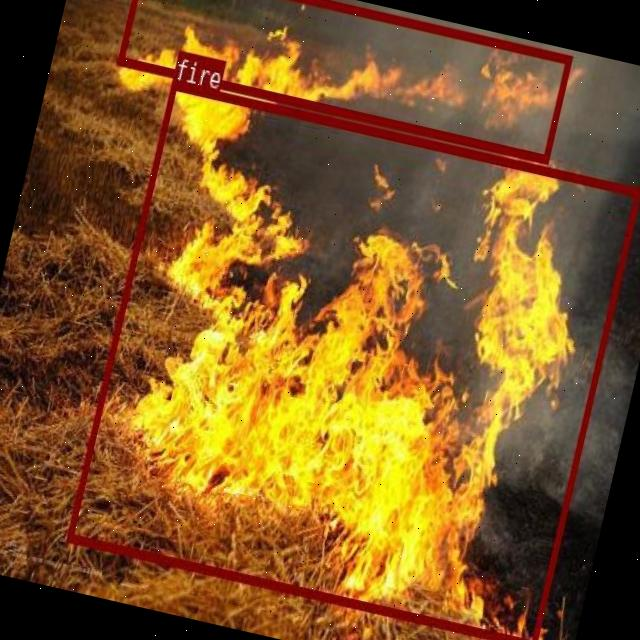fire: (65, 78, 640, 640), (115, 0, 571, 163)
